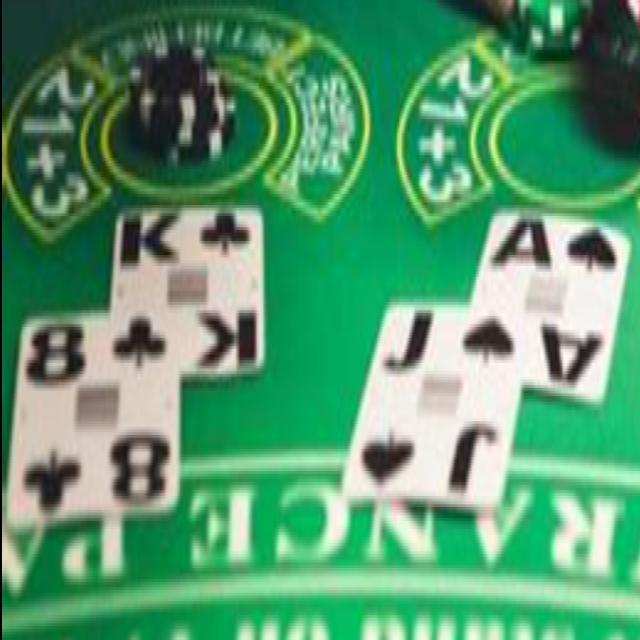Card-8: (10, 316, 180, 526)
Card-A: (455, 202, 628, 406)
Card-J: (340, 294, 520, 511)
Card-K: (109, 204, 262, 380)
